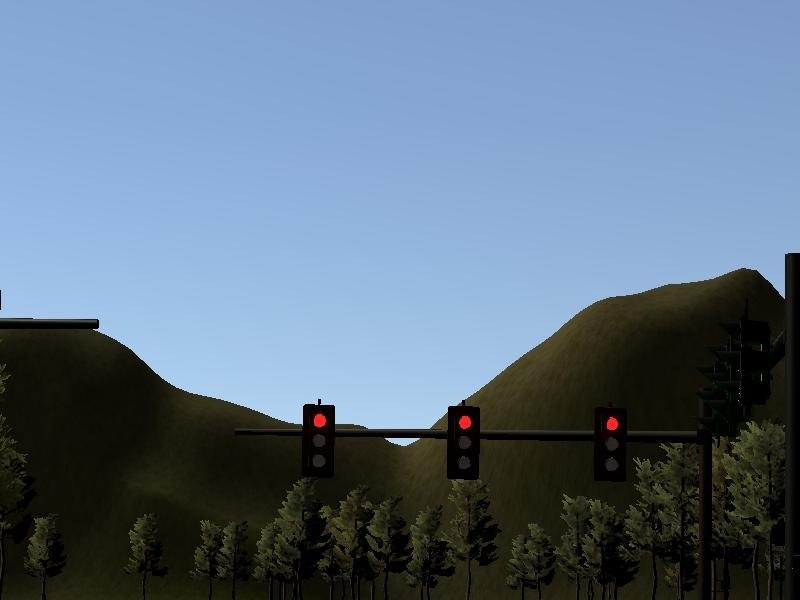red: (595, 409, 628, 483), (449, 406, 480, 481), (304, 405, 336, 477)
